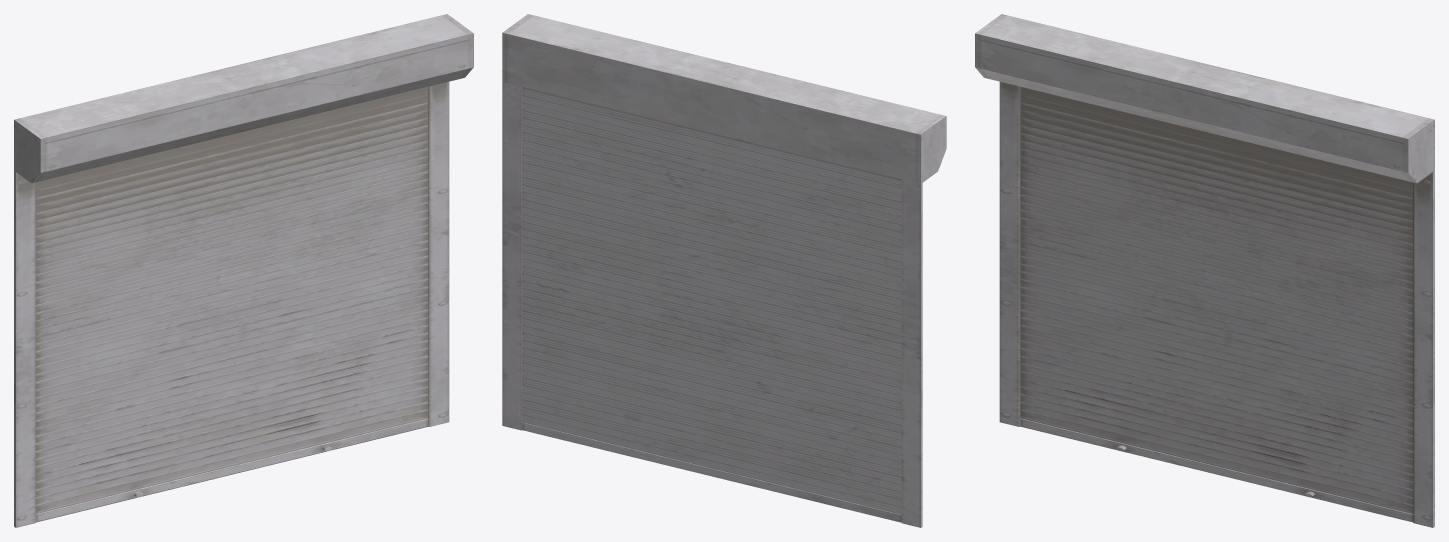
Rendered from roller_shutter_shop.glb.
3 views of the same model, side by side, from view 1: azimuth 30°, elevation 25°; view 2: azimuth 150°, elevation 25°; view 3: azimuth 330°, elevation 25° (orthographic). The views are drawn at different scales.
Visible parts, largest first — view 1: roller_shutter_shop; view 2: roller_shutter_shop; view 3: roller_shutter_shop.
Part boxes in pixels (box(x1,y1,x2,y2)): roller_shutter_shop: box(14, 14, 473, 527); roller_shutter_shop: box(502, 14, 946, 527); roller_shutter_shop: box(975, 14, 1434, 527).
Bounding box in the file's own units: 2.81 × 2.52 × 0.3001.
Materials: 1 (1 with a texture image).
